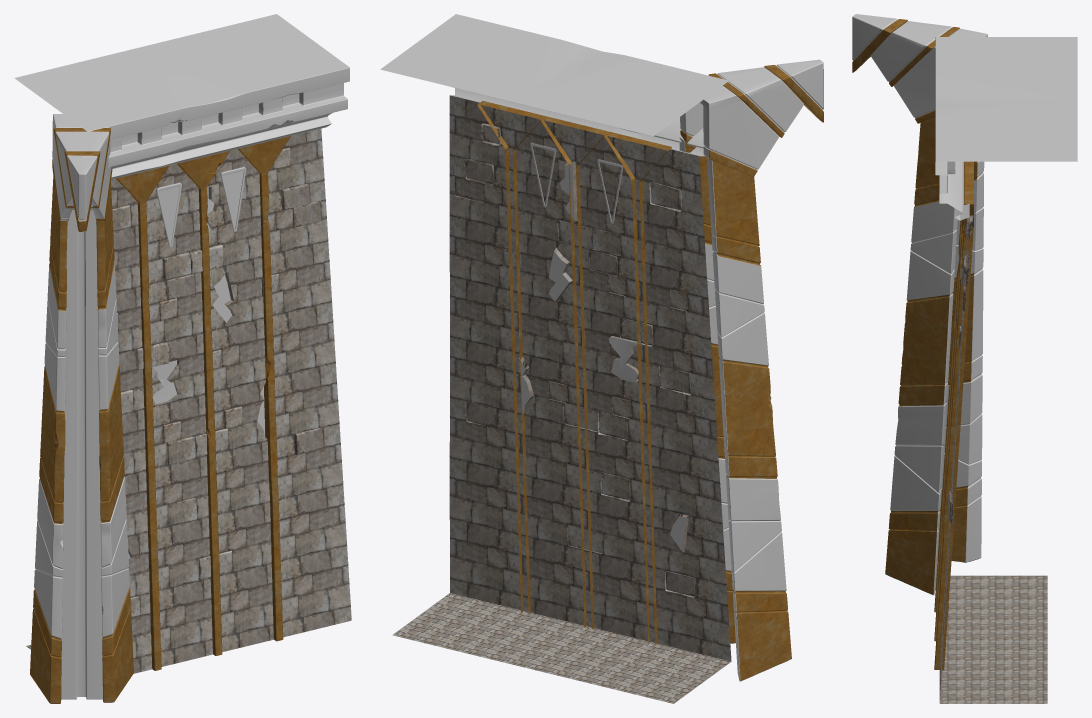
The picture shows the model from 3 angles, left to right: view 1: azimuth 30°, elevation 25°; view 2: azimuth 150°, elevation 25°; view 3: azimuth 270°, elevation 25°; orthographic projection. The views are drawn at different scales.
Visible parts, largest first — view 1: SM_KuldrasTower_Bottom_Wall_LOD0; view 2: SM_KuldrasTower_Bottom_Wall_LOD0; view 3: SM_KuldrasTower_Bottom_Wall_LOD0.
Boxes of the visible parts, <box> form: SM_KuldrasTower_Bottom_Wall_LOD0: <box>14,14,351,703</box>; SM_KuldrasTower_Bottom_Wall_LOD0: <box>380,14,823,703</box>; SM_KuldrasTower_Bottom_Wall_LOD0: <box>852,14,1077,703</box>.
Bounding box in the file's own units: 60.89 × 102 × 38.66.
